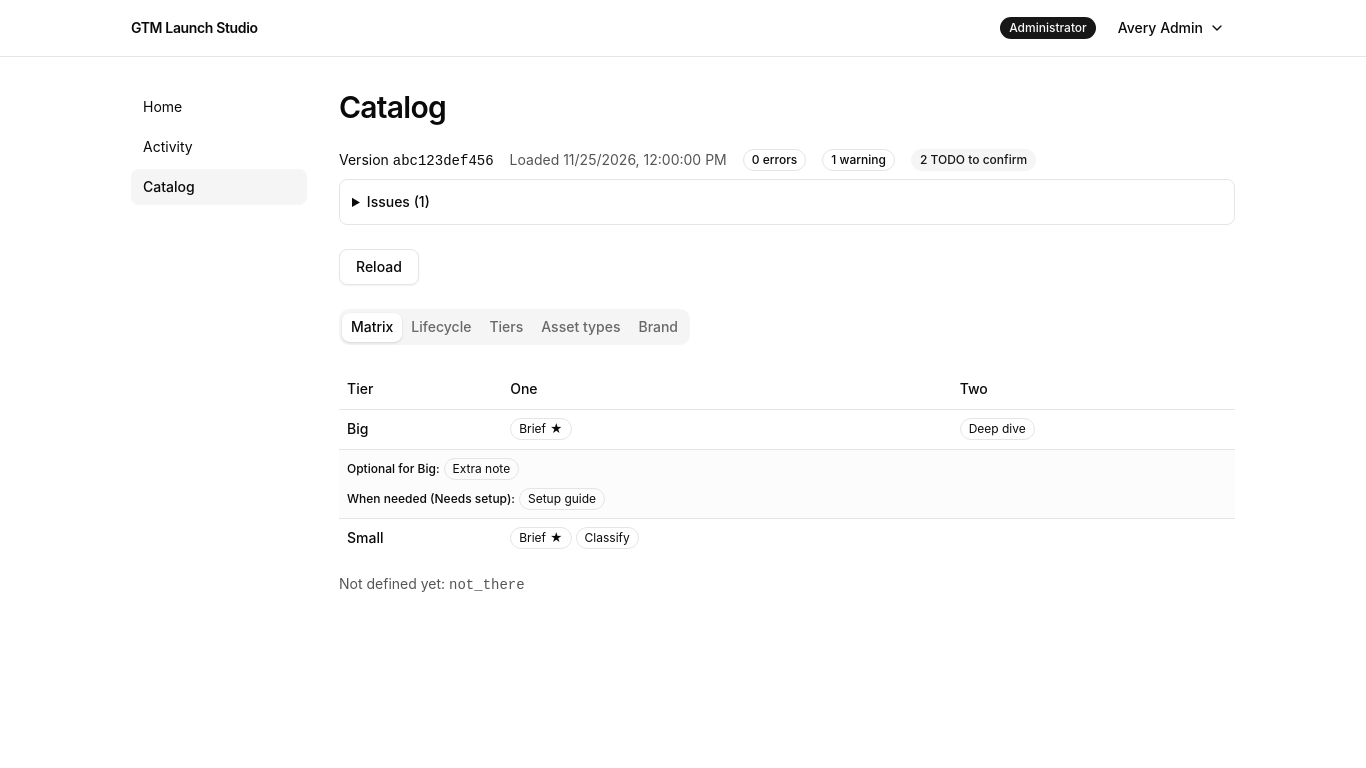
Test case: CatalogPage › Reload › shows an admin the new version and fetches the catalog again
This screenshot has width=1366, height=768.
Expected: the heading "Catalog" is shown, [339,89,446,125]
Click the button "Reload": (379, 267) [339,249,419,285]
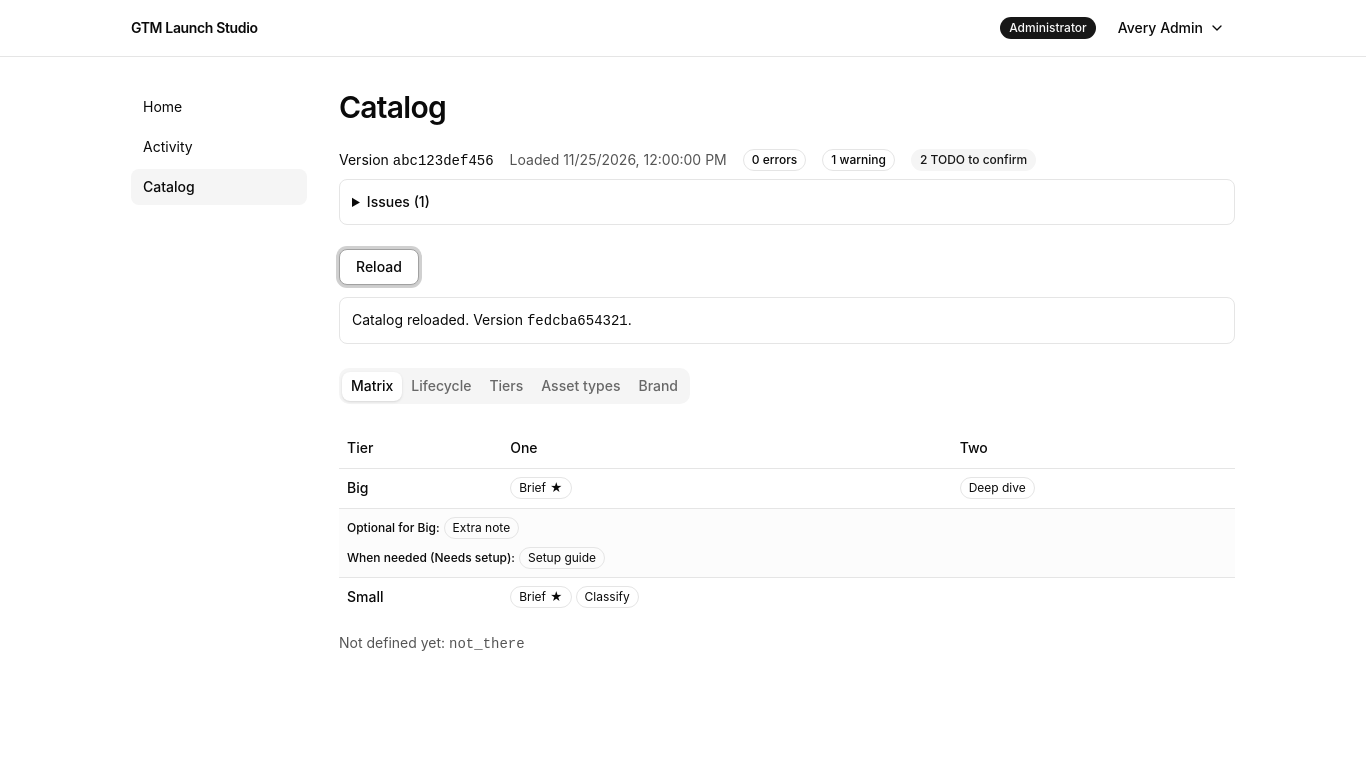
Now the text "Catalog reloaded. Version fedcba654321." is shown, box [352,311,632,329]
Now the text "fedcba654321" is shown, box [527,313,628,329]
